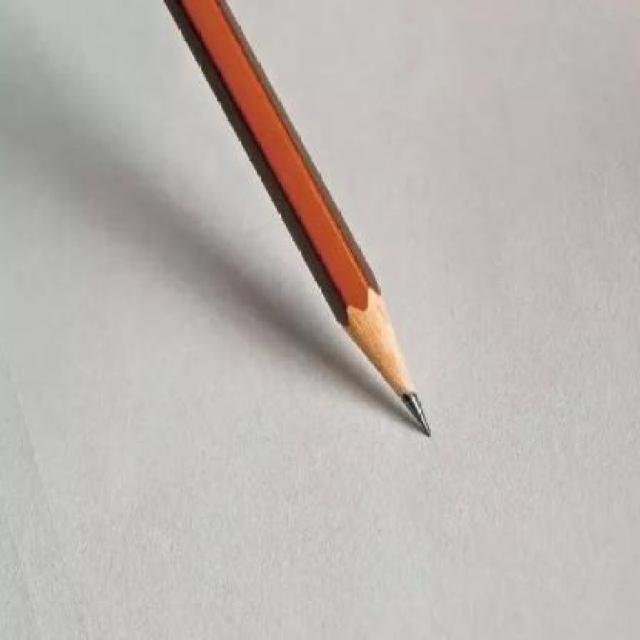pencil: (156, 0, 460, 476)
